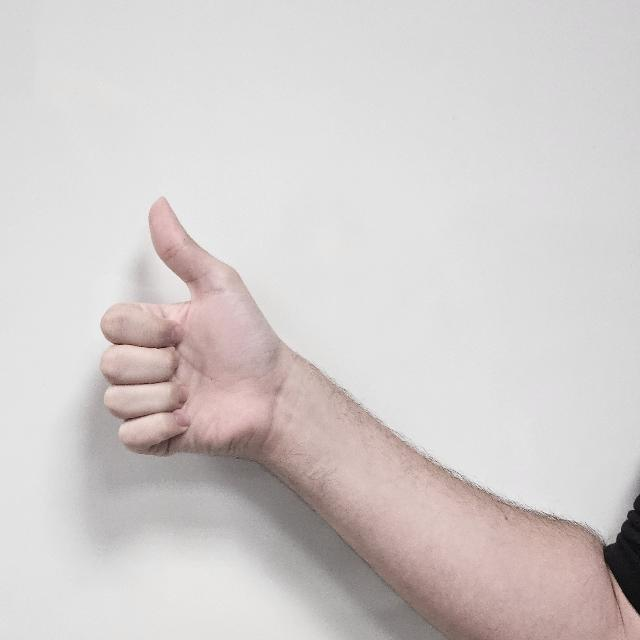Start: (101, 188, 289, 500)
